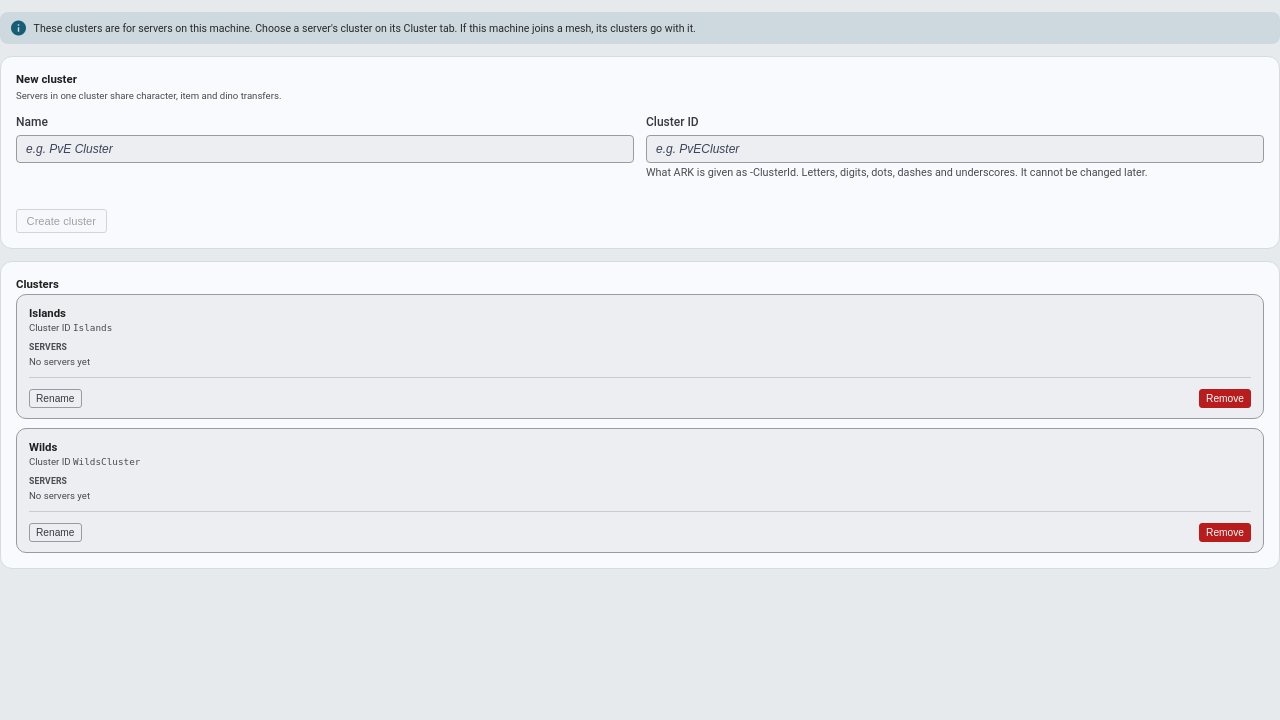
Test case: ClustersSettingsComponent › suggests an ID from the name until one is typed
Type "My PvP Cluster!" into the field with id "cluster-create-name" at (325, 149), box [16,135,634,163]
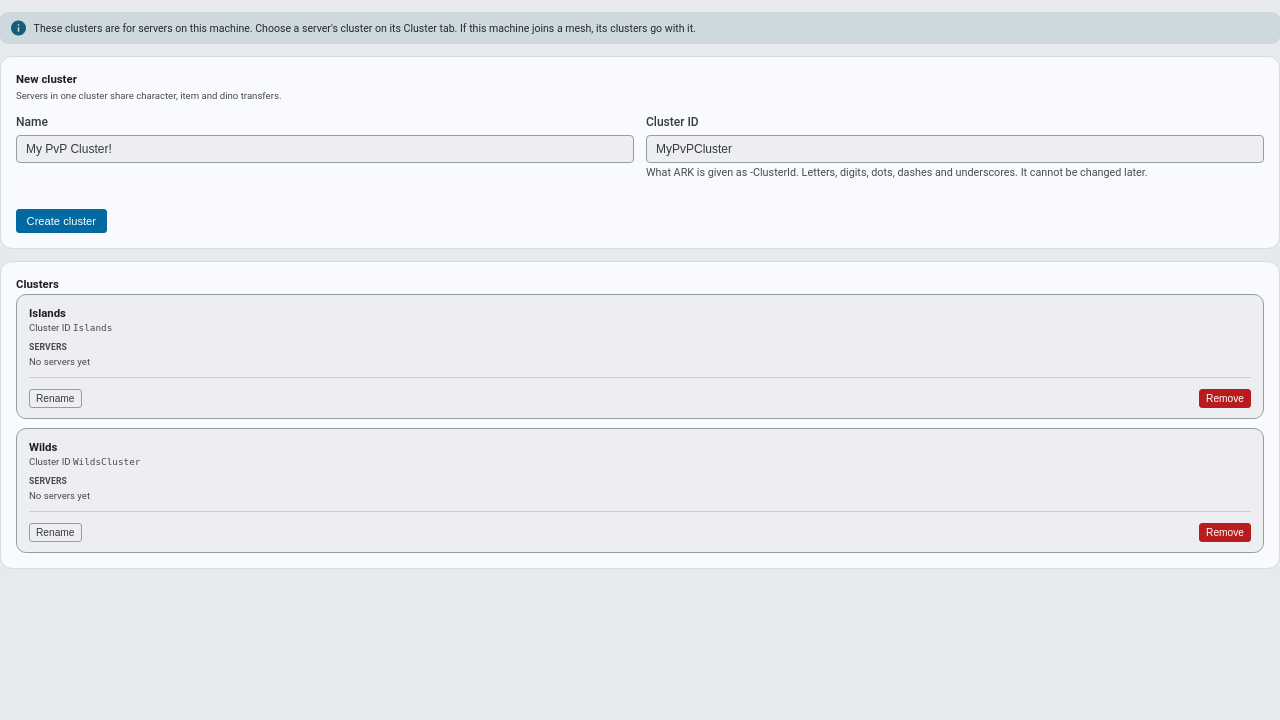
Expected: the field with id "cluster-create-id" holds "MyPvPCluster", [646,135,1264,163]
